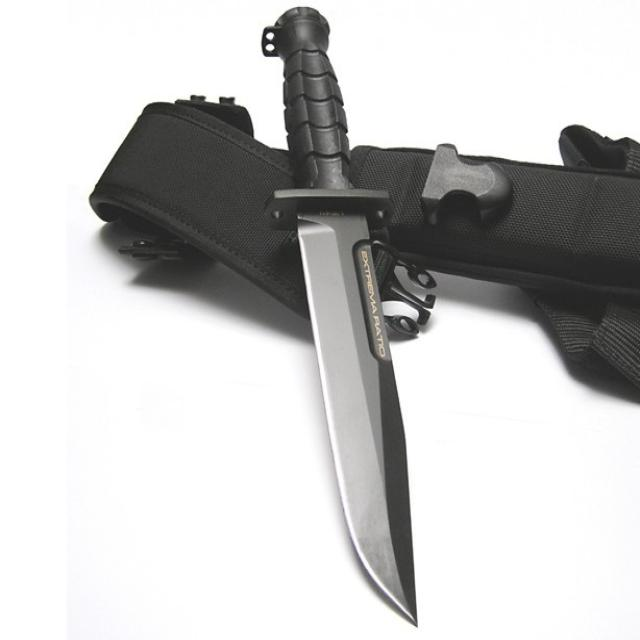knife: (258, 3, 453, 633)
